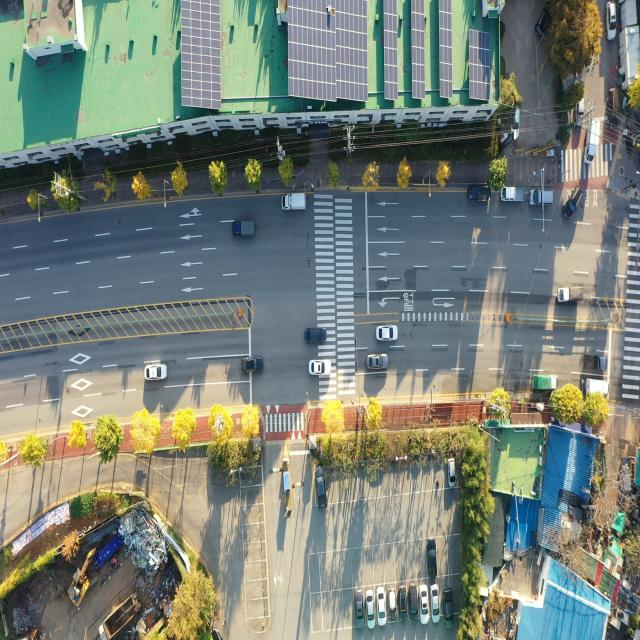car: (528, 187, 555, 211), (562, 187, 582, 219), (426, 538, 437, 580), (354, 588, 364, 632), (398, 586, 409, 625), (316, 466, 326, 508), (409, 584, 419, 626), (365, 590, 375, 631), (430, 582, 440, 623), (444, 588, 454, 628), (241, 356, 263, 374), (420, 585, 430, 624), (306, 328, 327, 346), (144, 364, 167, 380), (535, 9, 548, 37), (387, 588, 397, 624), (607, 4, 616, 42), (368, 354, 389, 370), (377, 326, 397, 342), (310, 359, 330, 375), (513, 107, 521, 141), (448, 458, 457, 488), (379, 588, 386, 624), (576, 98, 584, 126)
medium_truck: (98, 592, 139, 640)
small_truck: (583, 118, 602, 162), (607, 85, 620, 128), (282, 194, 308, 213), (500, 184, 525, 203), (532, 375, 558, 393), (583, 355, 608, 373), (586, 376, 608, 396), (467, 185, 491, 202), (558, 286, 583, 302), (234, 220, 256, 236)
